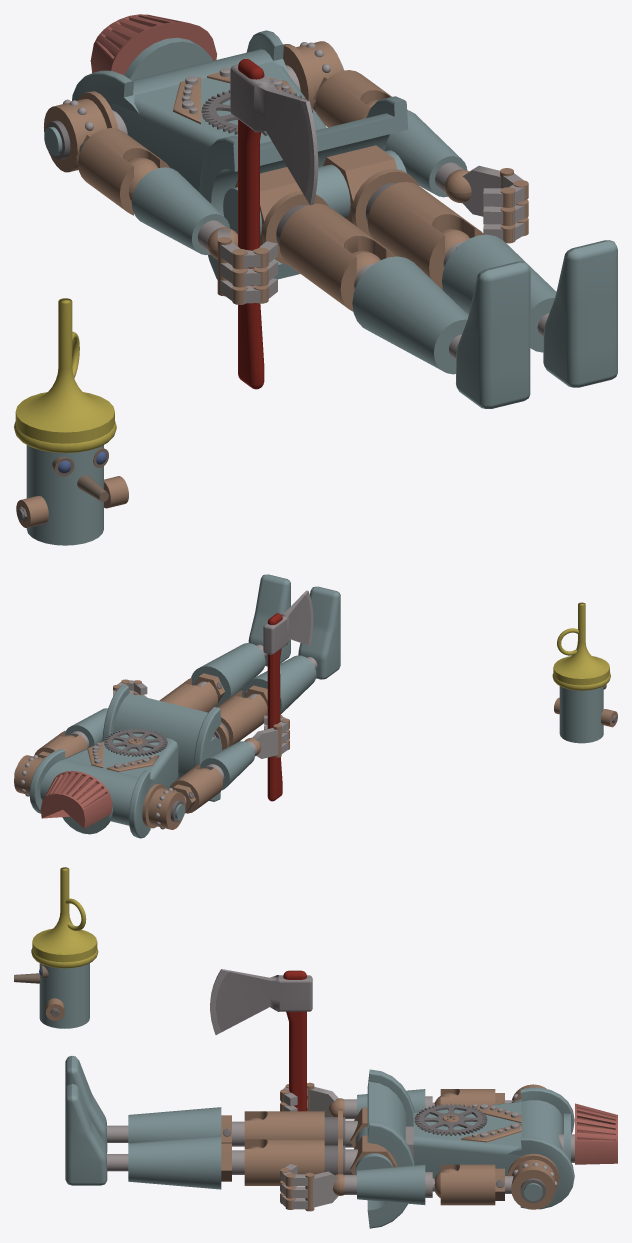
File: TilWoodman.fbx
3 renders of one model, top to bottom at view 1: azimuth 30°, elevation 25°; view 2: azimuth 150°, elevation 25°; view 3: azimuth 270°, elevation 25°, orthographic. The views are drawn at different scales.
Visible parts, largest first — view 1: polySurface230, polySurface229, polySurface109, pCylinder46, polySurface93, pCylinder29, polySurface234, polySurface233, polySurface319, pCylinder26, polySurface318, polySurface269 (+17 smaller); view 2: pCylinder29, pCylinder1, beard, polySurface230, pCylinder46, pCylinder26, polySurface93, polySurface100, polySurface229, polySurface319, polySurface318, polySurface109 (+11 smaller); view 3: polySurface100, polySurface319, polySurface93, pCylinder29, pCylinder1, polySurface229, pCylinder46, polySurface233, polySurface109, pCylinder26, polySurface240, beard (+12 smaller).
Boxes of the visible parts, x1=… form: polySurface230: x1=456, y1=261, x2=530, y2=408; polySurface229: x1=543, y1=240, x2=617, y2=387; polySurface109: x1=352, y1=256, x2=468, y2=374; pCylinder46: x1=14, y1=298, x2=116, y2=452; polySurface93: x1=112, y1=61, x2=326, y2=192; pCylinder29: x1=199, y1=96, x2=408, y2=279; polySurface234: x1=279, y1=203, x2=395, y2=311; polySurface233: x1=367, y1=182, x2=484, y2=289; polySurface319: x1=230, y1=64, x2=318, y2=205; pCylinder26: x1=26, y1=445, x2=103, y2=545; polySurface318: x1=238, y1=59, x2=264, y2=389; polySurface269: x1=131, y1=167, x2=229, y2=254; pCylinder29: x1=102, y1=684, x2=221, y2=801; pCylinder1: x1=29, y1=749, x2=153, y2=838; beard: x1=40, y1=771, x2=112, y2=828; polySurface230: x1=298, y1=586, x2=340, y2=679; pCylinder46: x1=552, y1=602, x2=610, y2=690; pCylinder26: x1=559, y1=686, x2=603, y2=743; polySurface93: x1=65, y1=729, x2=178, y2=792; polySurface100: x1=191, y1=643, x2=265, y2=707; polySurface229: x1=248, y1=574, x2=290, y2=666; polySurface319: x1=263, y1=590, x2=313, y2=654; polySurface318: x1=267, y1=613, x2=282, y2=801; polySurface109: x1=242, y1=655, x2=316, y2=714; polySurface100: x1=128, y1=1135, x2=221, y2=1189; polySurface319: x1=210, y1=969, x2=312, y2=1034; polySurface93: x1=413, y1=1102, x2=521, y2=1178; pCylinder29: x1=367, y1=1069, x2=414, y2=1228; pCylinder1: x1=507, y1=1087, x2=574, y2=1209; polySurface229: x1=65, y1=1083, x2=107, y2=1185; pCylinder46: x1=31, y1=867, x2=98, y2=968; polySurface233: x1=244, y1=1139, x2=324, y2=1185; polySurface109: x1=128, y1=1107, x2=221, y2=1143; pCylinder26: x1=39, y1=963, x2=89, y2=1028; polySurface240: x1=357, y1=1164, x2=425, y2=1204; beard: x1=575, y1=1103, x2=617, y2=1164.
Size of the model in its own units: 6606 by 2978 by 7689.
